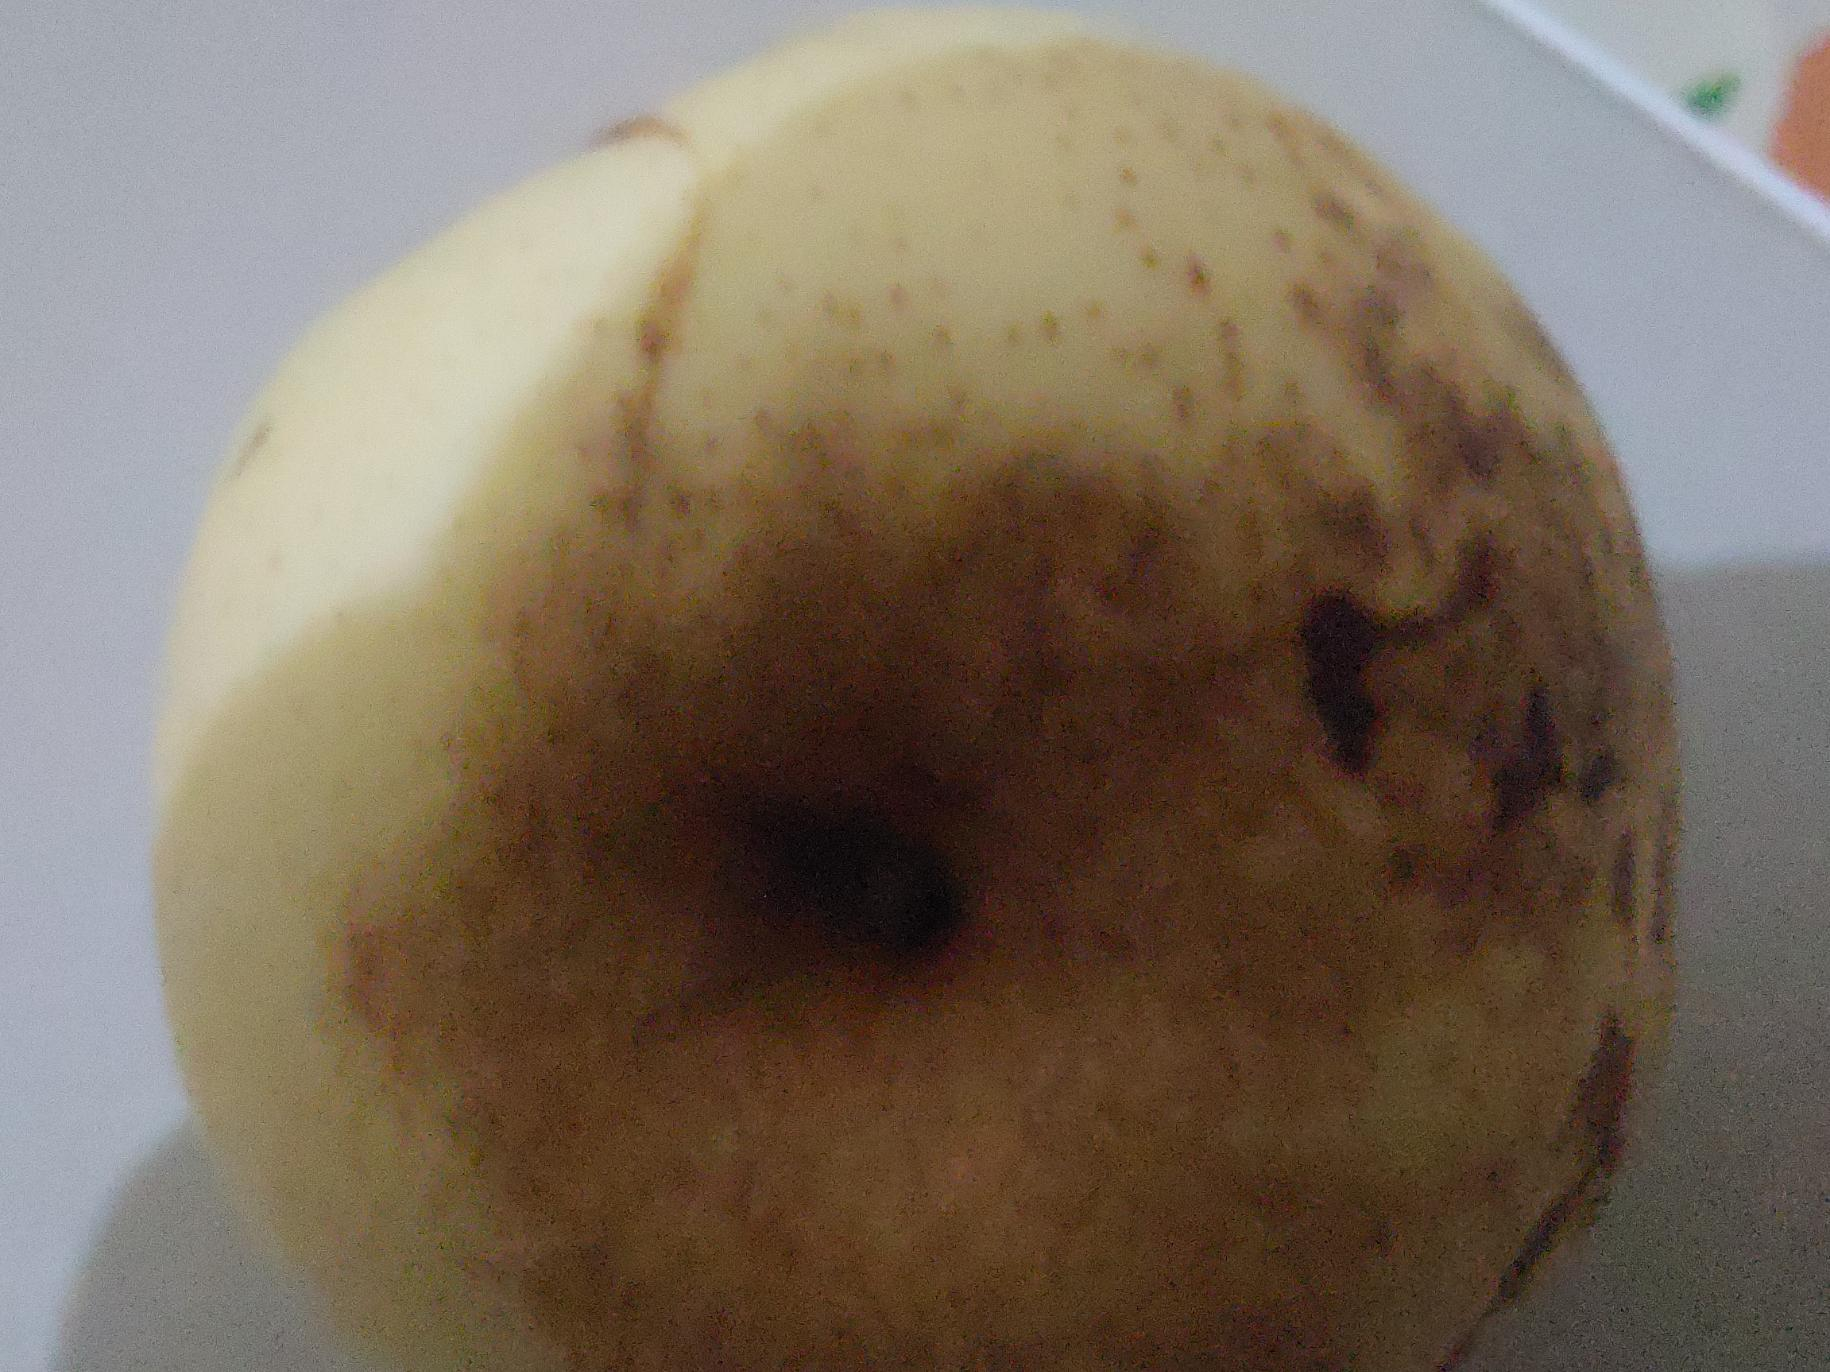Bad Pear: (169, 16, 1671, 1372)
